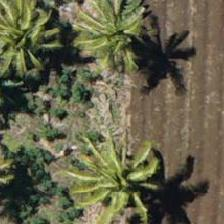coconut_tree: (69, 132, 159, 222), (68, 0, 158, 79), (0, 0, 68, 83)
